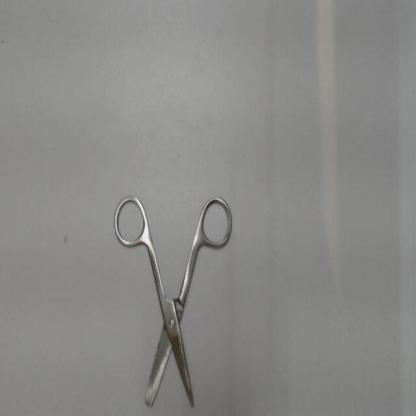Dressing Scissors: (106, 183, 243, 413)
